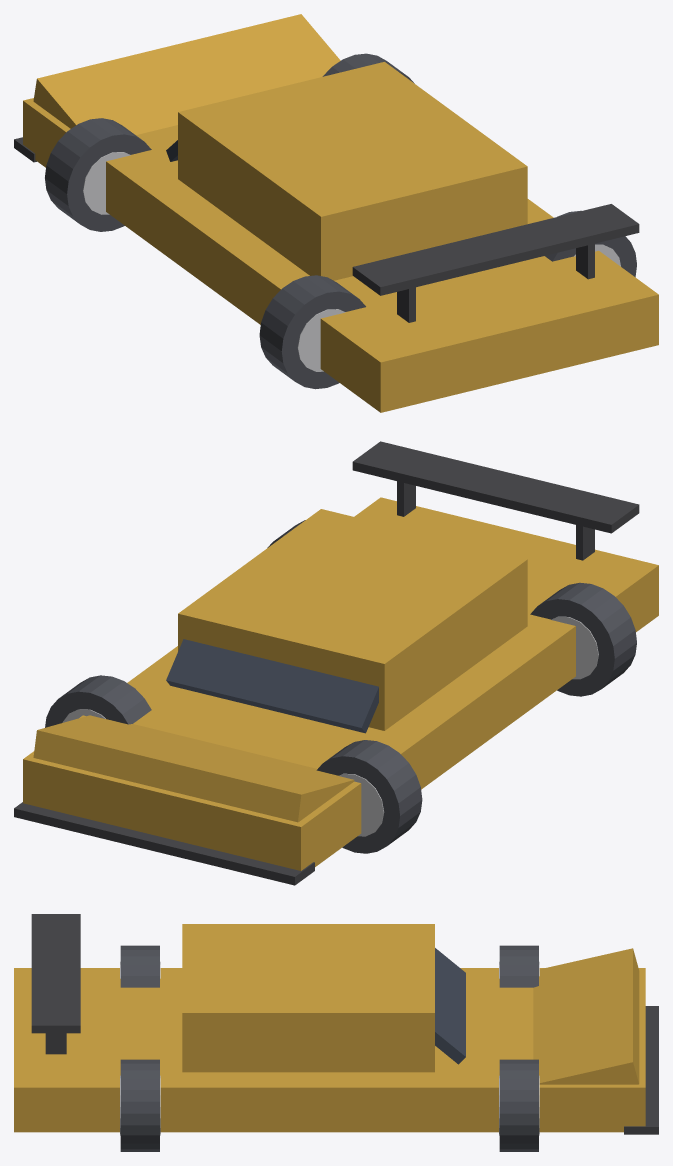
Rendered from vehicle_sportscar.glb.
The picture shows the model from 3 angles, top to bottom: view 1: azimuth 30°, elevation 25°; view 2: azimuth 150°, elevation 25°; view 3: azimuth 270°, elevation 25°; orthographic projection. The views are drawn at different scales.
Parts seen in each view (by area): view 1: world; view 2: world; view 3: world.
Boxes of the visible parts, x1,y1,x2,y2 form: world: [14, 14, 658, 412]; world: [14, 441, 658, 885]; world: [14, 914, 658, 1151].
Bounding box in the file's own units: 2.58 × 0.96 × 4.6.
